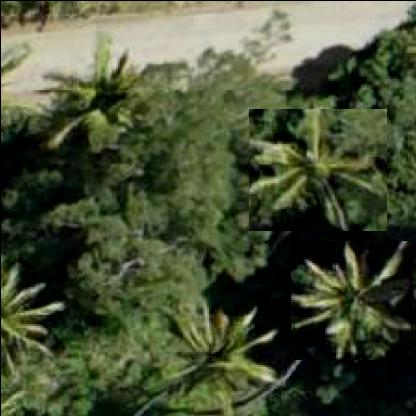coconut tree: (247, 108, 386, 231), (151, 290, 279, 414), (289, 240, 412, 360), (38, 27, 141, 152), (0, 255, 68, 371)
